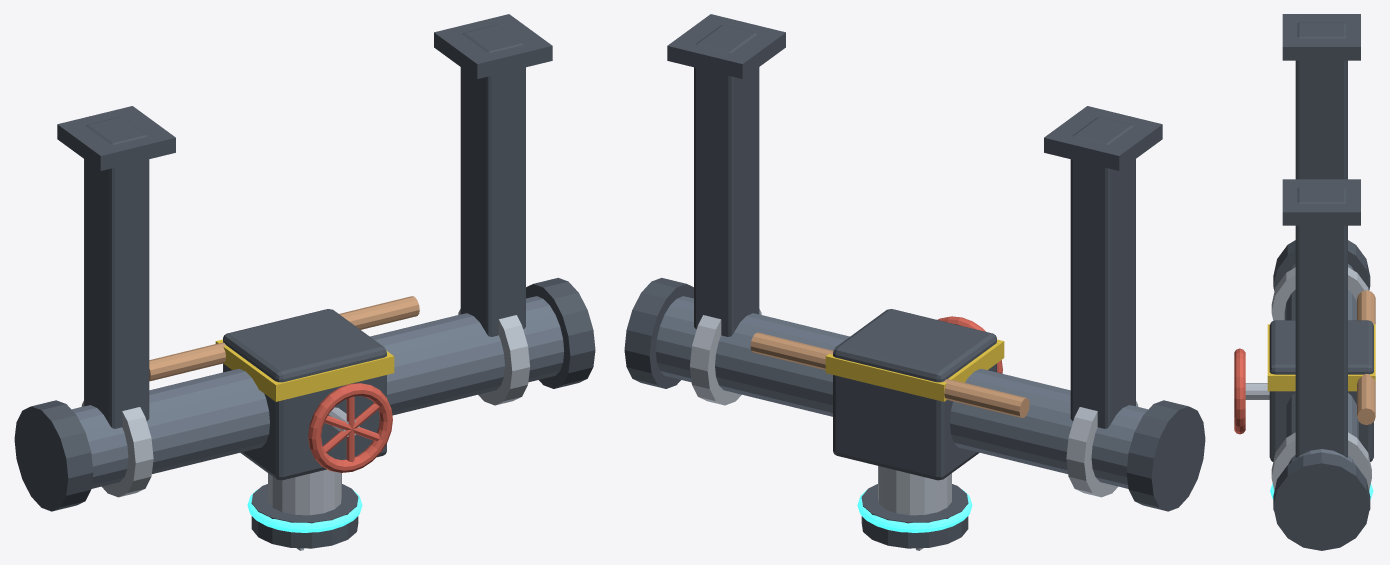
File: tuberia_vapor_crio.glb
3 views of the same model, side by side, from view 1: azimuth 30°, elevation 25°; view 2: azimuth 150°, elevation 25°; view 3: azimuth 270°, elevation 25° (orthographic). The views are drawn at different scales.
Visible parts, largest first — view 1: Tubo_Principal, Soporte_Techo_-1.05, Soporte_Techo_1.05, Valvula_Cuerpo, Tapa_-1.4, Placa_Techo_1.05, Placa_Techo_-1.05, Tapa_1.4, Boquilla_Borde, Valvula_BandaY, Tubo_Cobre, Volante_Aro (+4 smaller); view 2: Tubo_Principal, Soporte_Techo_-1.05, Soporte_Techo_1.05, Valvula_Cuerpo, Tapa_-1.4, Placa_Techo_1.05, Placa_Techo_-1.05, Tapa_1.4, Tubo_Cobre, Boquilla_Borde, Valvula_BandaY, Boquilla_Cuello (+3 smaller); view 3: Soporte_Techo_1.05, Tapa_1.4, Soporte_Techo_-1.05, Valvula_Cuerpo, Placa_Techo_1.05, Placa_Techo_-1.05, Tubo_Principal, Tubo_Cobre, Brida_1.05, Tapa_-1.4, Brida_-1.05, Volante_Aro (+2 smaller).
Part boxes in pixels (x1,y1,x2,y2): Tubo_Principal: [71, 296, 564, 488]; Soporte_Techo_-1.05: [84, 117, 149, 428]; Soporte_Techo_1.05: [460, 25, 525, 336]; Valvula_Cuerpo: [223, 309, 386, 480]; Tapa_-1.4: [14, 400, 93, 511]; Placa_Techo_1.05: [434, 14, 552, 78]; Placa_Techo_-1.05: [57, 106, 175, 170]; Tapa_1.4: [526, 277, 595, 388]; Boquilla_Borde: [251, 484, 358, 548]; Valvula_BandaY: [215, 339, 394, 401]; Tubo_Cobre: [149, 296, 419, 381]; Volante_Aro: [308, 383, 392, 472]; Tubo_Principal: [655, 296, 1148, 488]; Soporte_Techo_-1.05: [1070, 117, 1135, 428]; Soporte_Techo_1.05: [694, 25, 759, 336]; Valvula_Cuerpo: [833, 309, 996, 480]; Tapa_-1.4: [1126, 400, 1205, 511]; Placa_Techo_1.05: [667, 14, 785, 78]; Placa_Techo_-1.05: [1044, 106, 1162, 170]; Tapa_1.4: [624, 277, 693, 388]; Tubo_Cobre: [750, 332, 1029, 417]; Boquilla_Borde: [861, 484, 968, 548]; Valvula_BandaY: [825, 339, 1004, 401]; Boquilla_Cuello: [878, 466, 951, 515]; Soporte_Techo_1.05: [1295, 187, 1347, 457]; Tapa_1.4: [1273, 452, 1370, 550]; Soporte_Techo_-1.05: [1295, 22, 1347, 179]; Valvula_Cuerpo: [1269, 320, 1373, 461]; Placa_Techo_1.05: [1282, 179, 1360, 225]; Placa_Techo_-1.05: [1282, 14, 1360, 60]; Tubo_Principal: [1284, 264, 1358, 464]; Tubo_Cobre: [1357, 290, 1375, 424]; Brida_1.05: [1271, 432, 1371, 490]; Tapa_-1.4: [1273, 240, 1370, 290]; Brida_-1.05: [1271, 267, 1368, 320]; Volante_Aro: [1234, 348, 1245, 434].
Size of the model in its own units: 2.94 by 2.38 by 0.7604.
